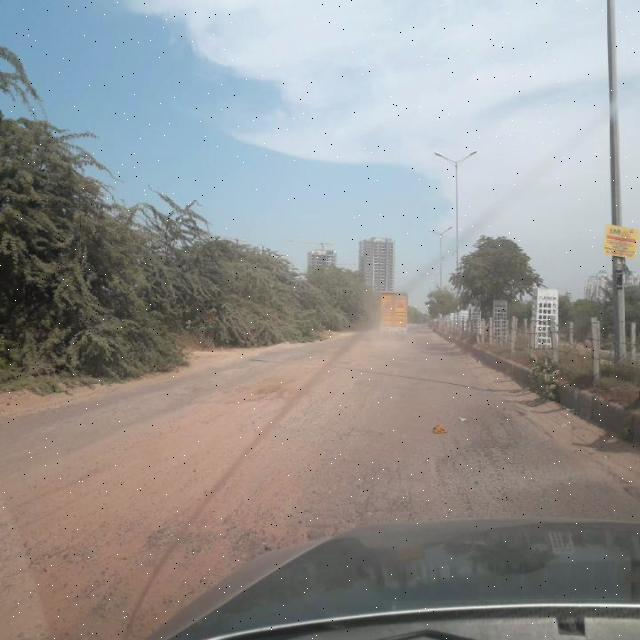D20: (291, 433, 415, 537)
D40: (0, 441, 280, 639), (418, 398, 546, 505), (167, 366, 287, 412)
